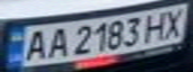1: (90, 19, 112, 52)
2: (69, 22, 93, 56)
3: (121, 15, 148, 47)
8: (106, 17, 127, 51)
A: (18, 27, 51, 62), (42, 25, 72, 60)
H: (139, 9, 172, 43)
X: (157, 6, 193, 39)
